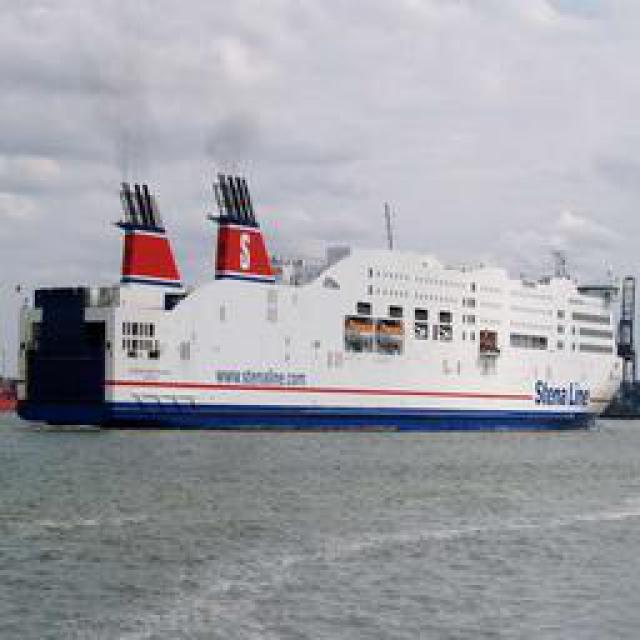Ship: (46, 161, 619, 426)
